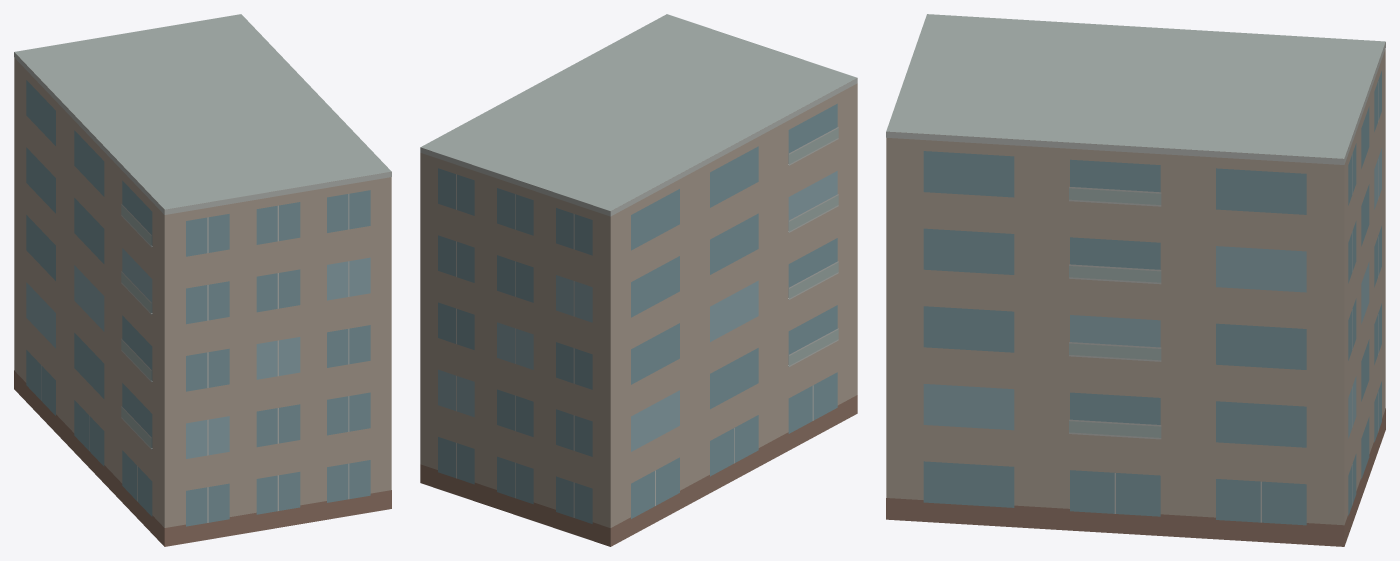
File: survey-upis-32981257.glb
3 views of the same model, side by side, from view 1: azimuth 30°, elevation 25°; view 2: azimuth 150°, elevation 25°; view 3: azimuth 270°, elevation 25° (orthographic). The views are drawn at different scales.
Parts seen in each view (by area): view 1: survey-upis-32981257.tmp; view 2: survey-upis-32981257.tmp; view 3: survey-upis-32981257.tmp.
Boxes of the visible parts, bbox=[...] form: survey-upis-32981257.tmp: bbox=[14, 14, 391, 546]; survey-upis-32981257.tmp: bbox=[420, 14, 857, 546]; survey-upis-32981257.tmp: bbox=[886, 14, 1385, 546].
Bounding box in the file's own units: 12.18 × 15.2 × 17.75.
